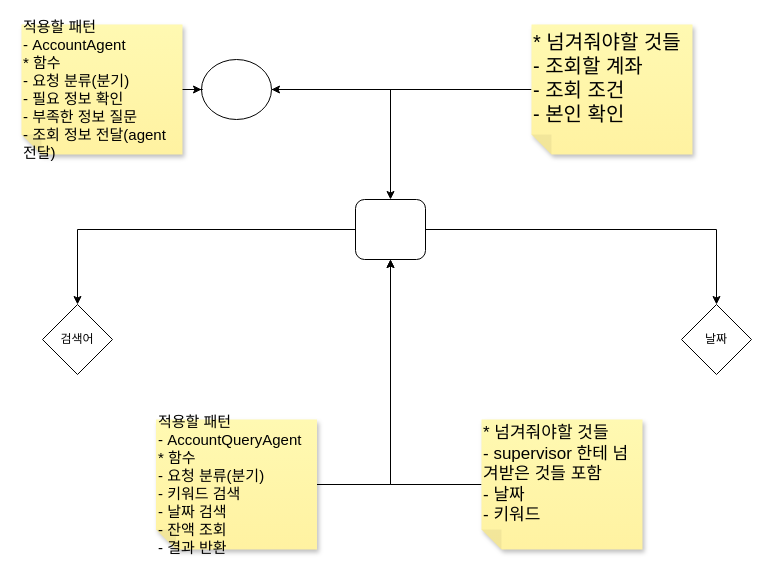
Some shapes in this 769 by 573 pixel diagram are drawn without their labels. The centre of each missing label's shape, as x and y in pixels:
계좌: the point at 236,89
조회: the point at 390,229
